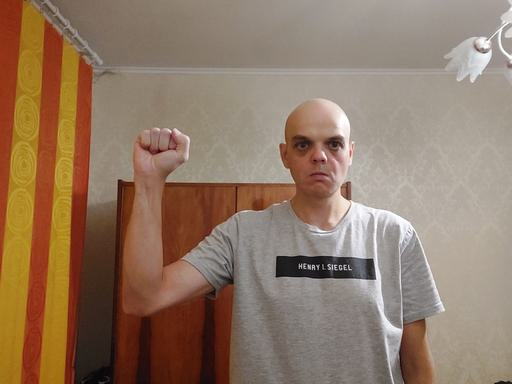fist: (132, 124, 193, 180)
